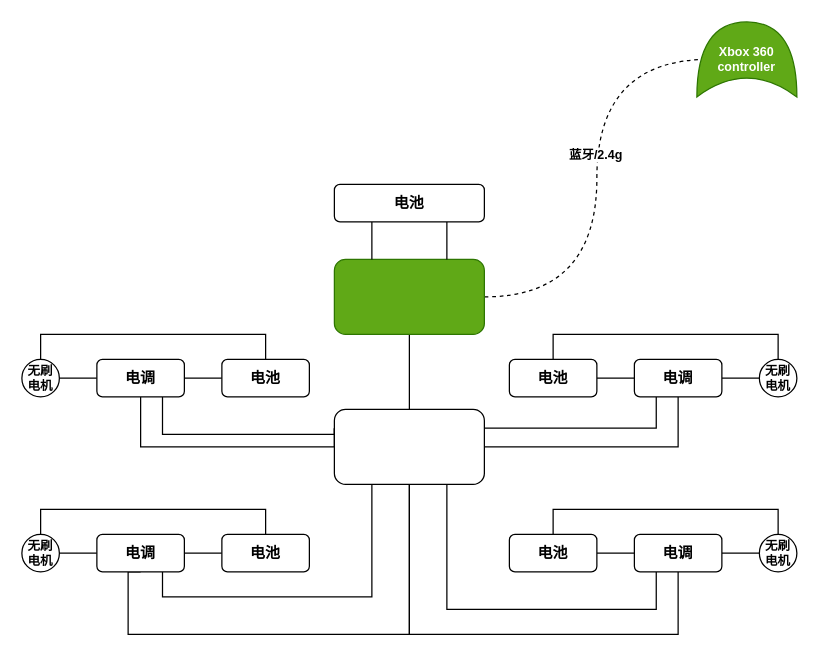
Some shapes in this 819 by 658 pixel diagram are drawn without their labels. Here are the shapes that lost their labels. From the top down, the box of each, then its label:
(333, 258, 484, 334): Raspberry 4B
(333, 408, 484, 484): pixhawk 飞控
